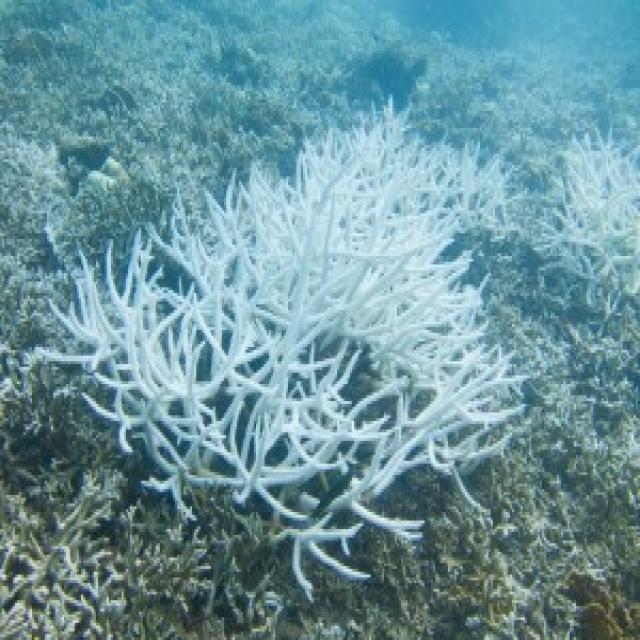Bleached: (80, 275, 498, 487), (301, 96, 517, 246), (182, 176, 461, 271), (552, 139, 640, 263), (1, 525, 95, 640)
Healthy: (389, 540, 640, 640), (529, 311, 640, 522), (128, 521, 295, 640), (1, 396, 121, 508), (196, 85, 303, 166), (570, 567, 640, 640), (82, 183, 174, 236), (349, 49, 416, 95)
